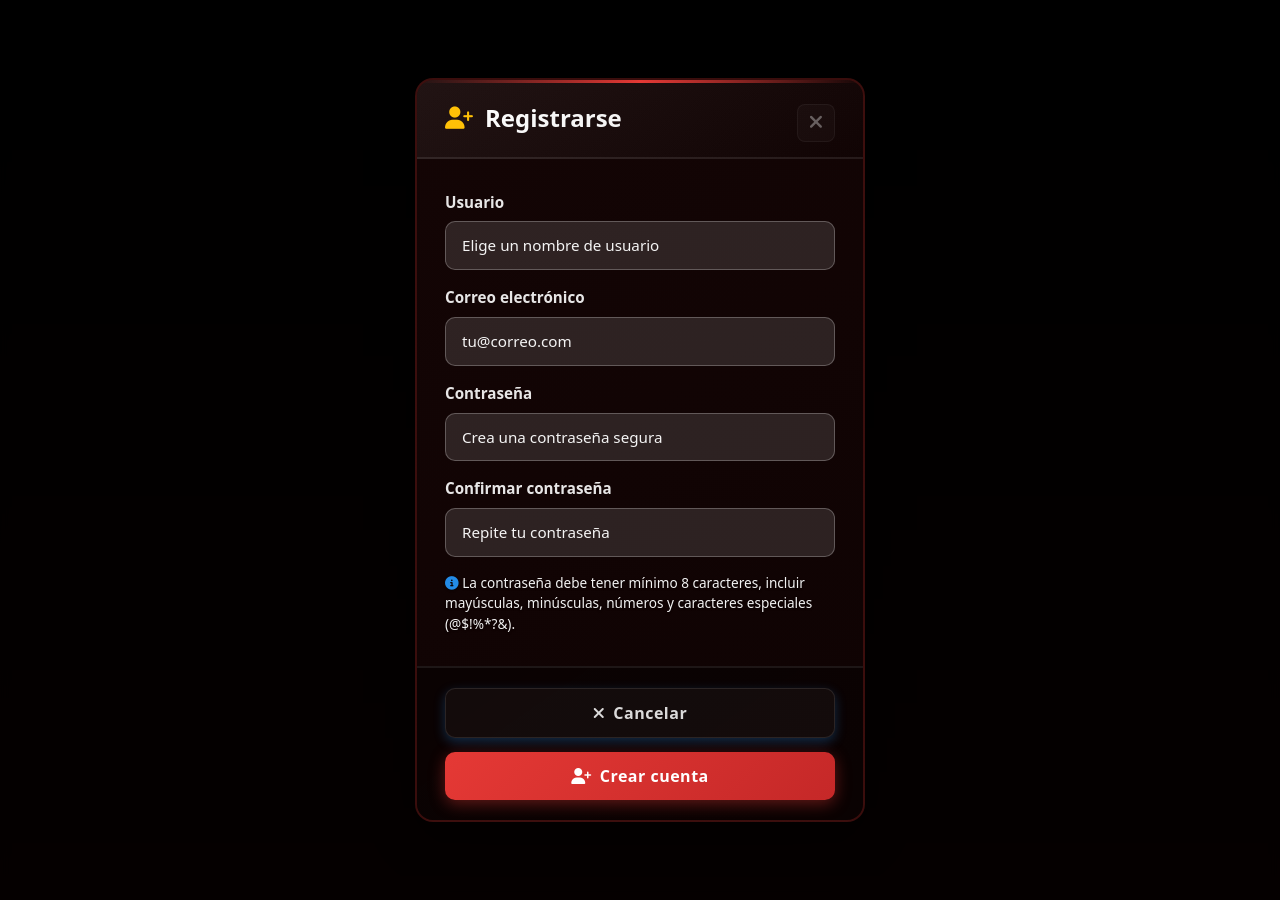
RegisterModal › valida que las contraseñas coincidan
The image size is (1280, 900).
In the password field with placeholder "Crea una contraseña segura": (640, 437) [445,413,835,461], type "Test123@"
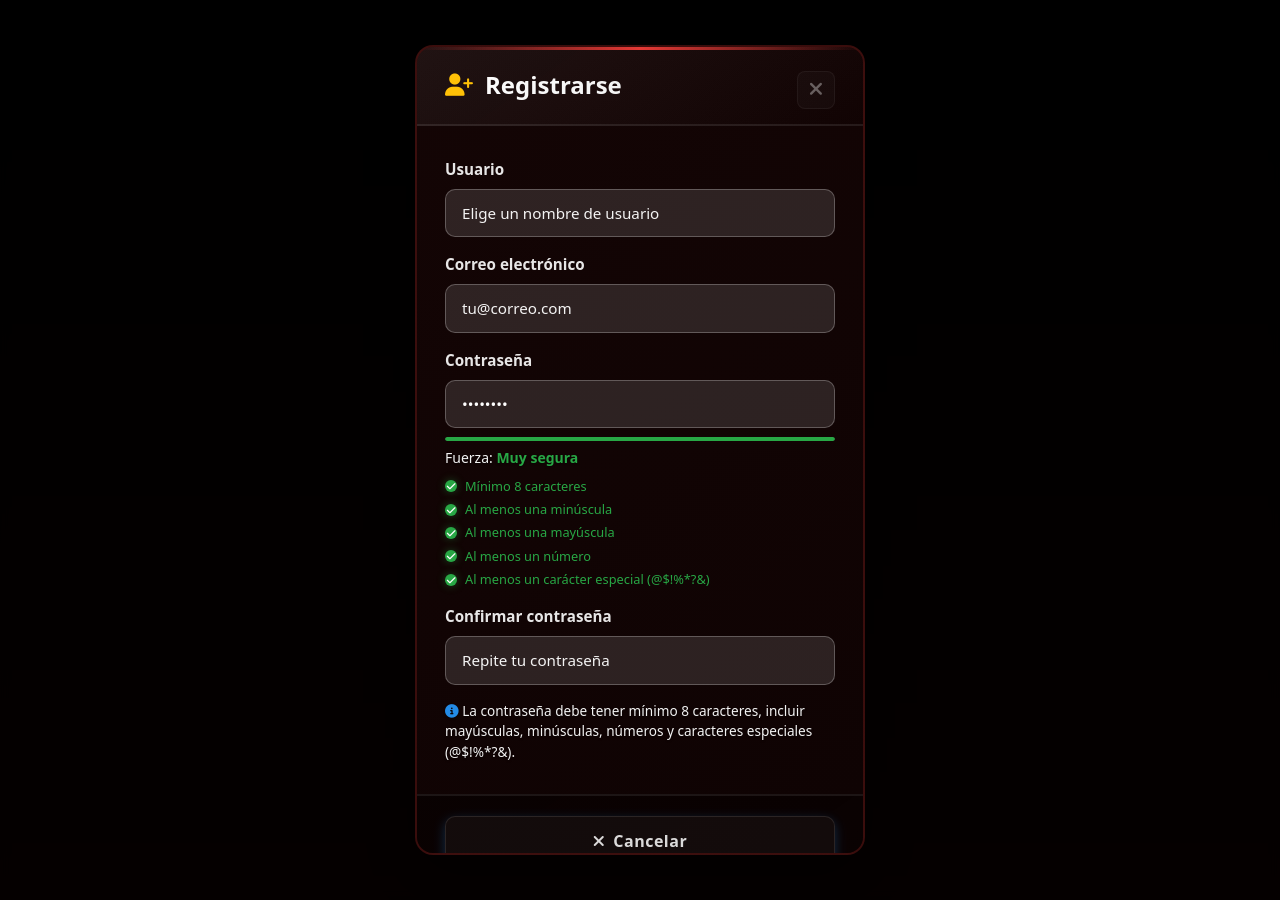
In the password field with placeholder "Repite tu contraseña": (640, 660) [445,636,835,685], type "Test123"
(page scrolled)
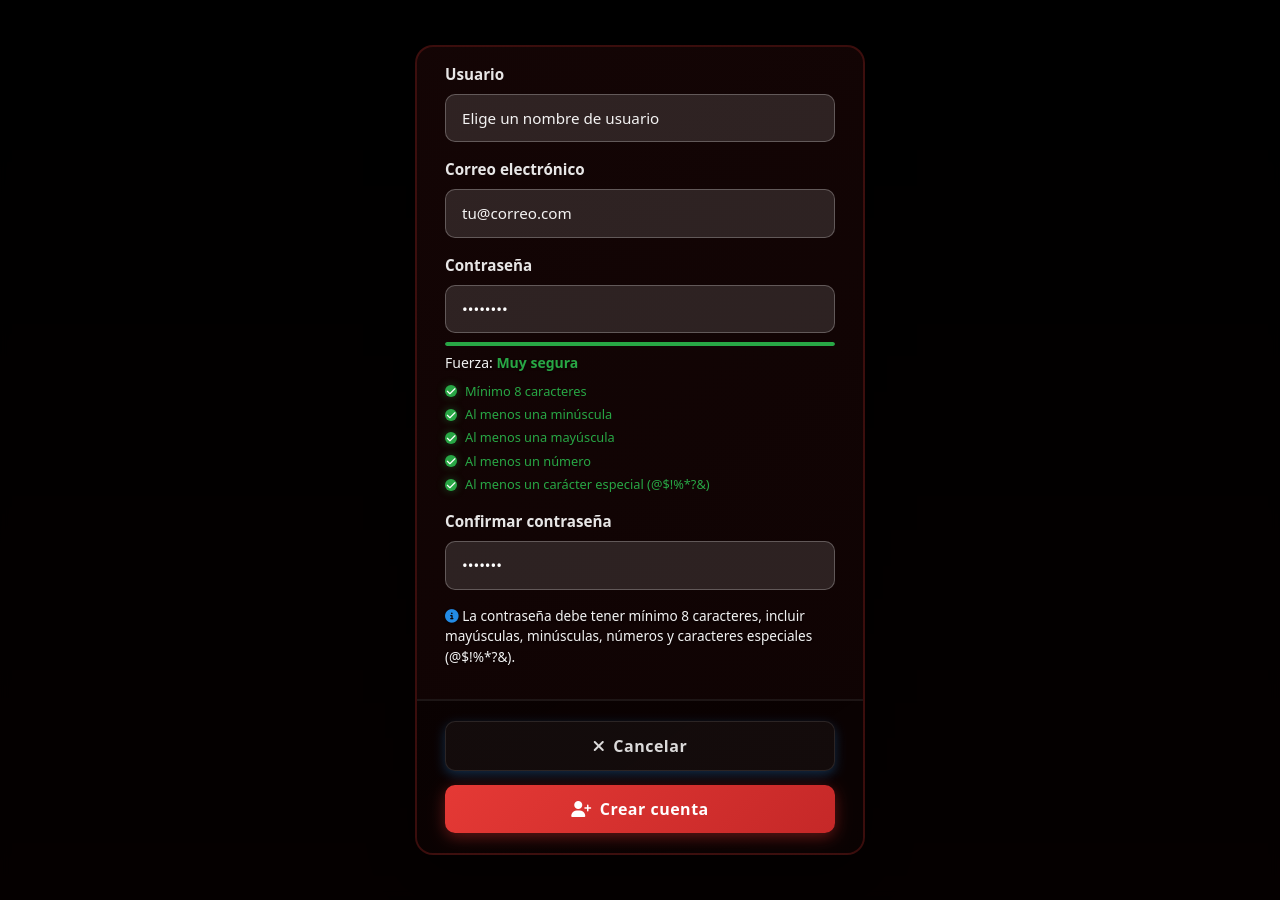
Click the button "Crear cuenta": click(640, 809) [445,785,835,833]
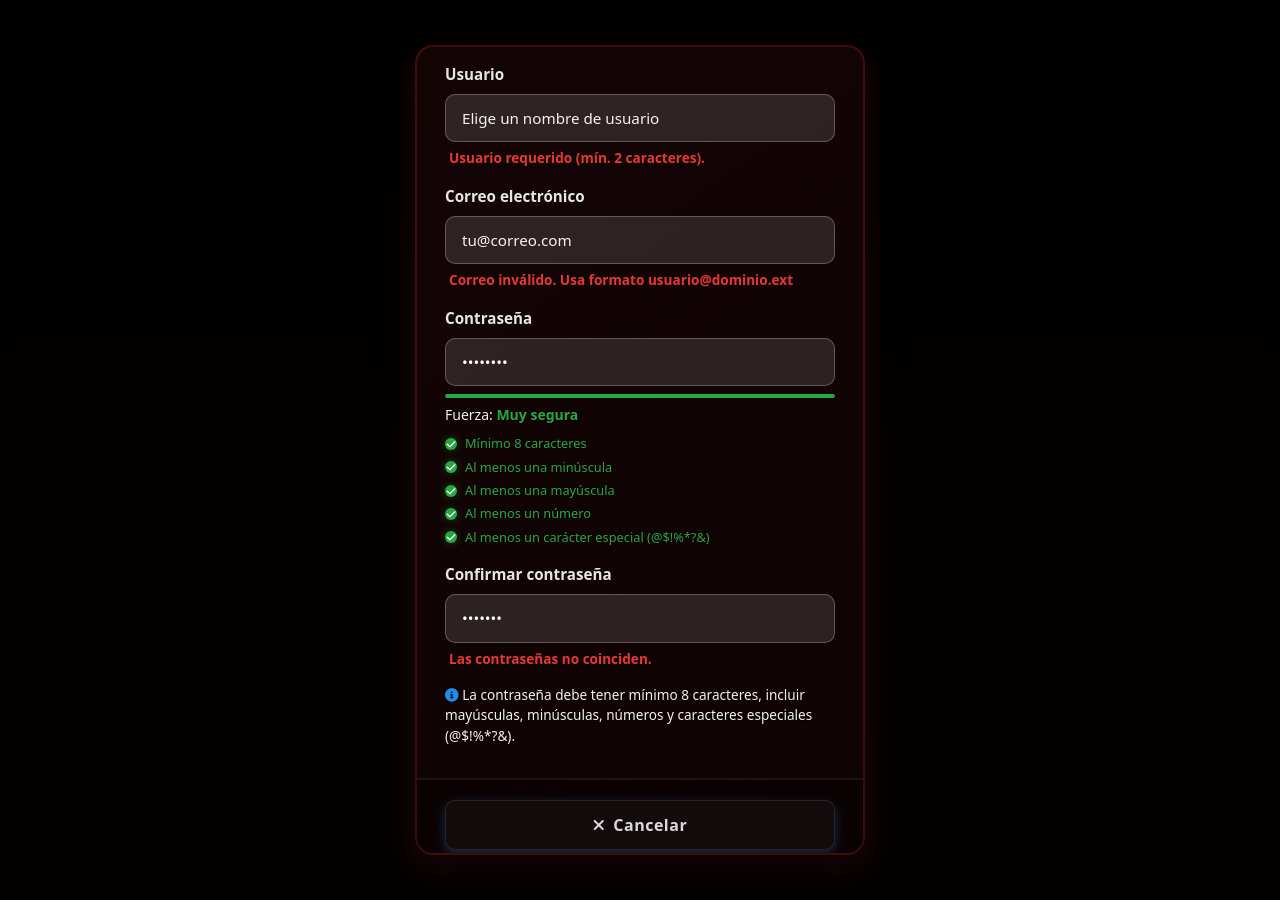
expect the text "Las contraseñas no coinciden." is shown: met, box [449,649,652,668]
